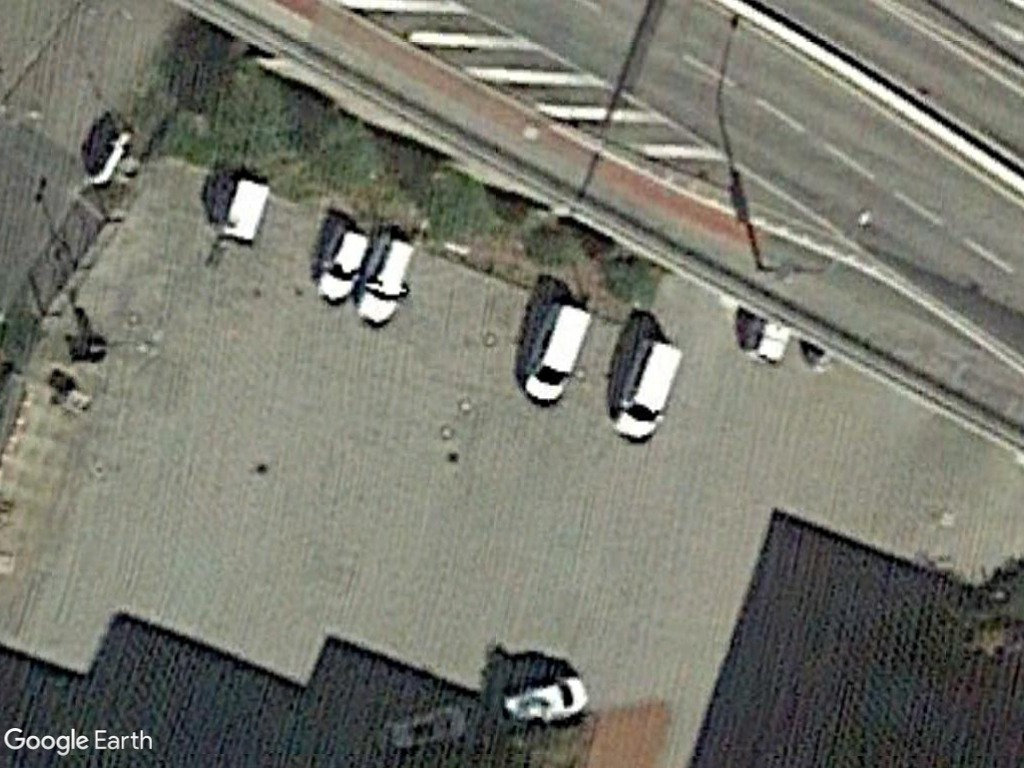car: (479, 670, 599, 732)
van: (515, 288, 597, 417), (606, 336, 689, 447)
